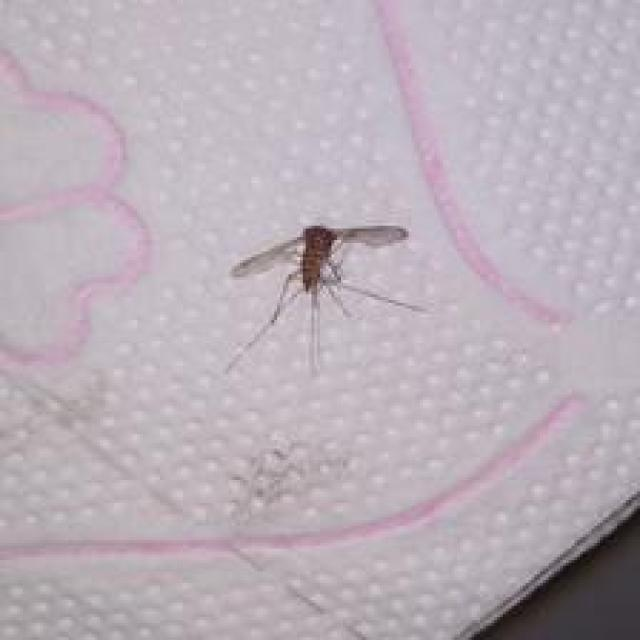Culex: (223, 220, 428, 377)
